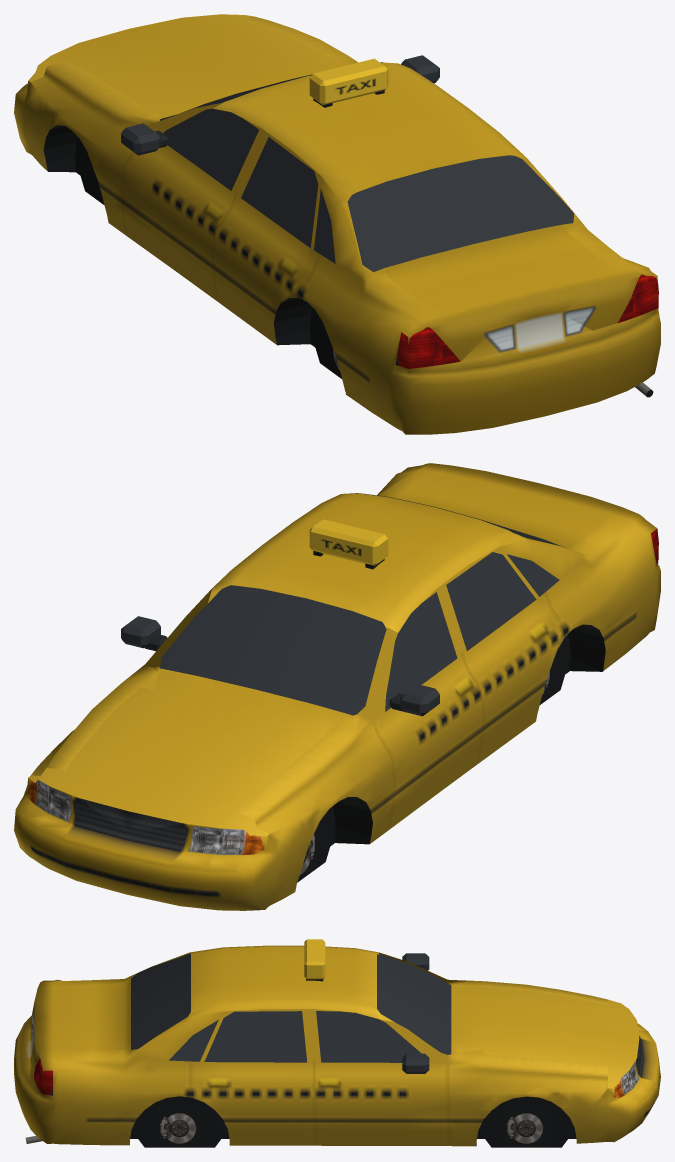
Rendered from fullsize_taxi.obj.
3 renders of one model, top to bottom at view 1: azimuth 30°, elevation 25°; view 2: azimuth 150°, elevation 25°; view 3: azimuth 270°, elevation 25°, orthographic. The views are drawn at different scales.
Visible parts, largest first — view 1: fullsize_taxi; view 2: fullsize_taxi; view 3: fullsize_taxi.
Boxes of the visible parts, x1,y1,x2,y2 form: fullsize_taxi: (14, 14, 660, 434); fullsize_taxi: (14, 463, 660, 910); fullsize_taxi: (14, 939, 660, 1147).
Size of the model in its own units: 2.18 by 1.49 by 5.38.
